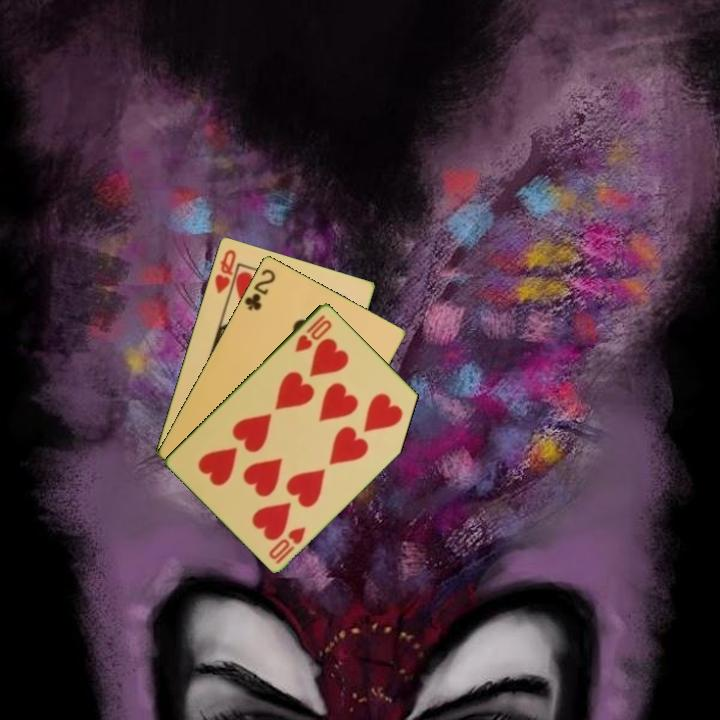10h: (291, 311, 335, 355), (265, 523, 309, 567)
2c: (241, 265, 278, 313)
Qh: (211, 245, 241, 302)
